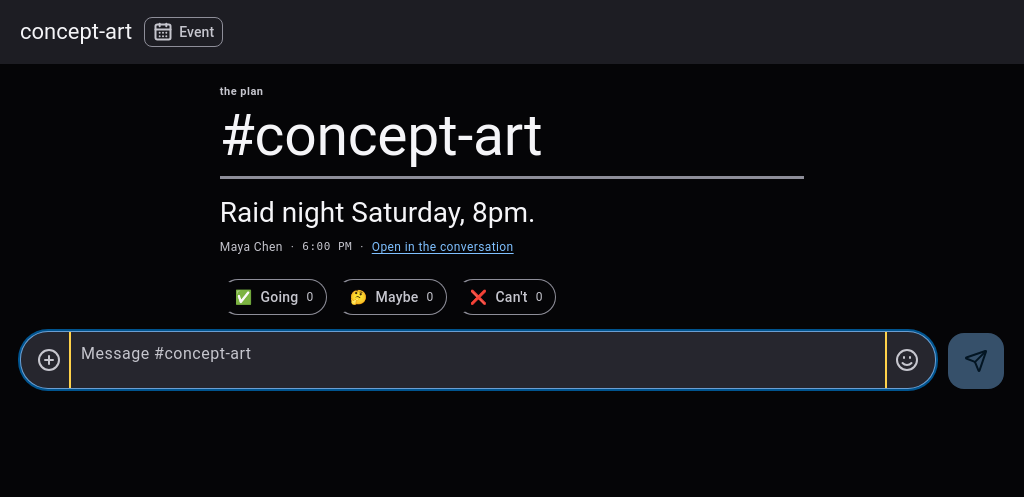
Test case: ChatView room shape › sends a reply as a reaction on the plan, and shows it before the server agrees
Click the button "✅ Going 0" at (273, 297), box x1=220 y1=279 x2=327 y2=315
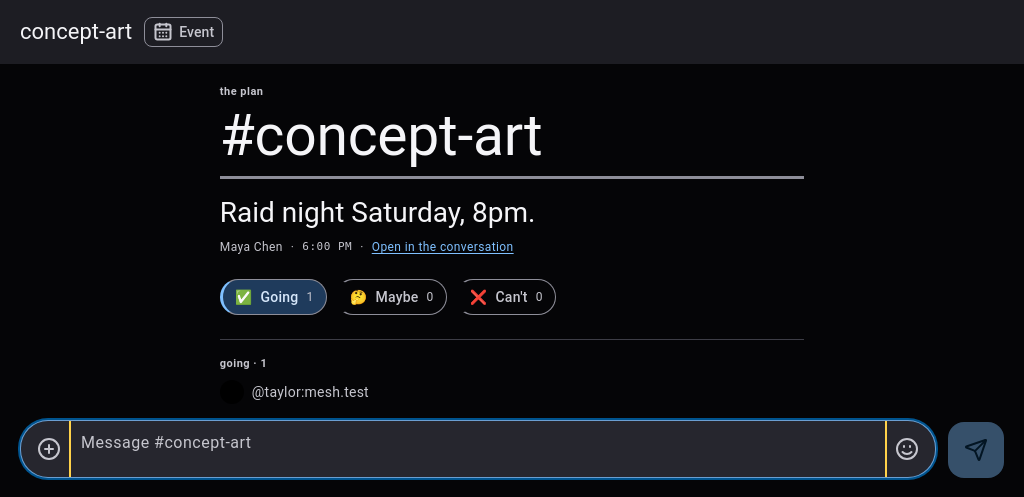
Expected: the button "✅ Going 1" is shown, x1=220 y1=279 x2=327 y2=315
